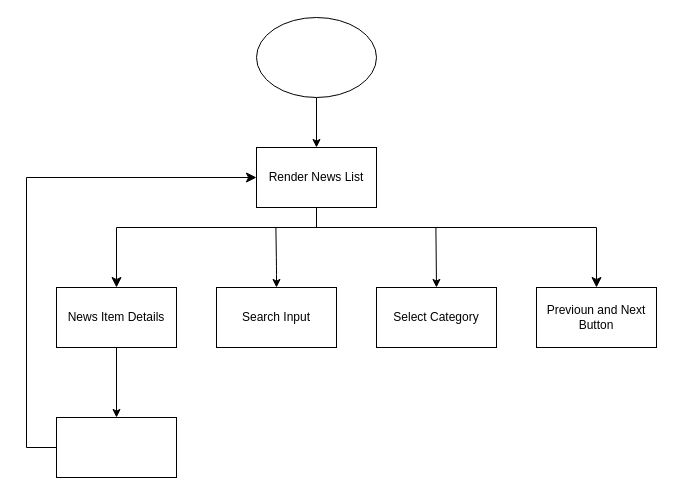
Some shapes in this 674 by 495 pixel diagram are drawn without their labels. Here are the shapes that lost their labels. From the top down, the box of each, then its label:
(256, 16, 376, 98): Start
(56, 416, 176, 478): Back Button
